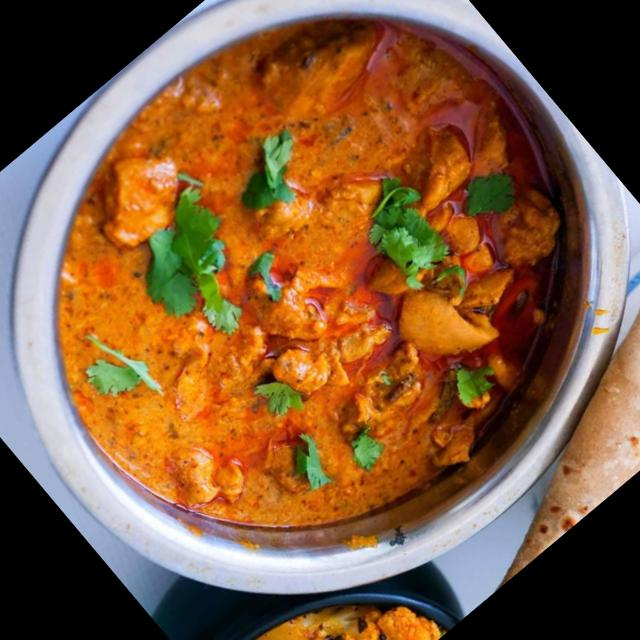chicken: (0, 0, 640, 640)
roti: (469, 278, 640, 547)
